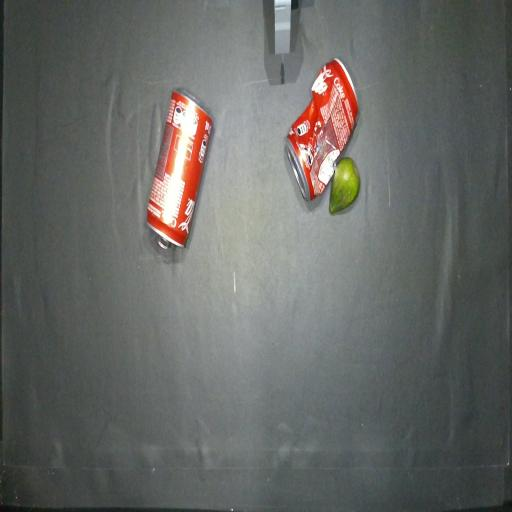higo: (329, 157, 360, 214)
lata: (147, 88, 213, 248)
lata_defectuoso: (285, 58, 358, 201)
